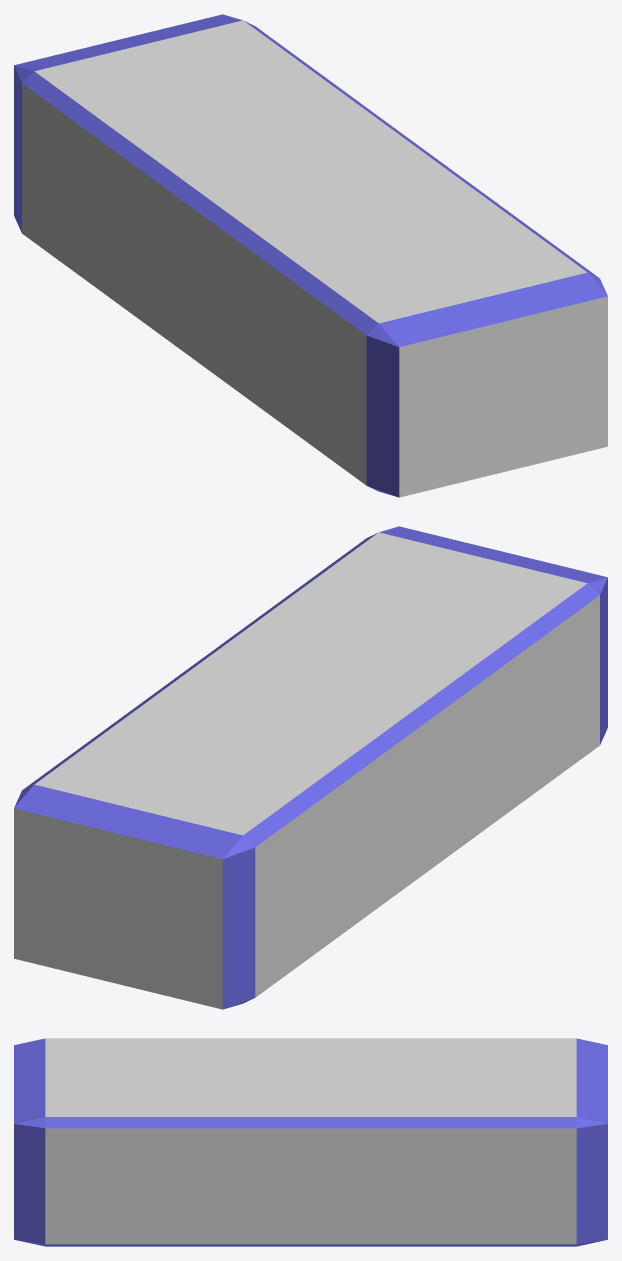
Rendered from GlowBlock.fbx.
The picture shows the model from 3 angles, top to bottom: view 1: azimuth 30°, elevation 25°; view 2: azimuth 150°, elevation 25°; view 3: azimuth 270°, elevation 25°; orthographic projection. The views are drawn at different scales.
Visible parts, largest first — view 1: Cube; view 2: Cube; view 3: Cube.
Part boxes in pixels (x1,y1,x2,y2): Cube: (14,14,607,497); Cube: (14,526,607,1009); Cube: (14,1038,607,1246).
Size of the model in its own units: 291 by 200 by 830.
